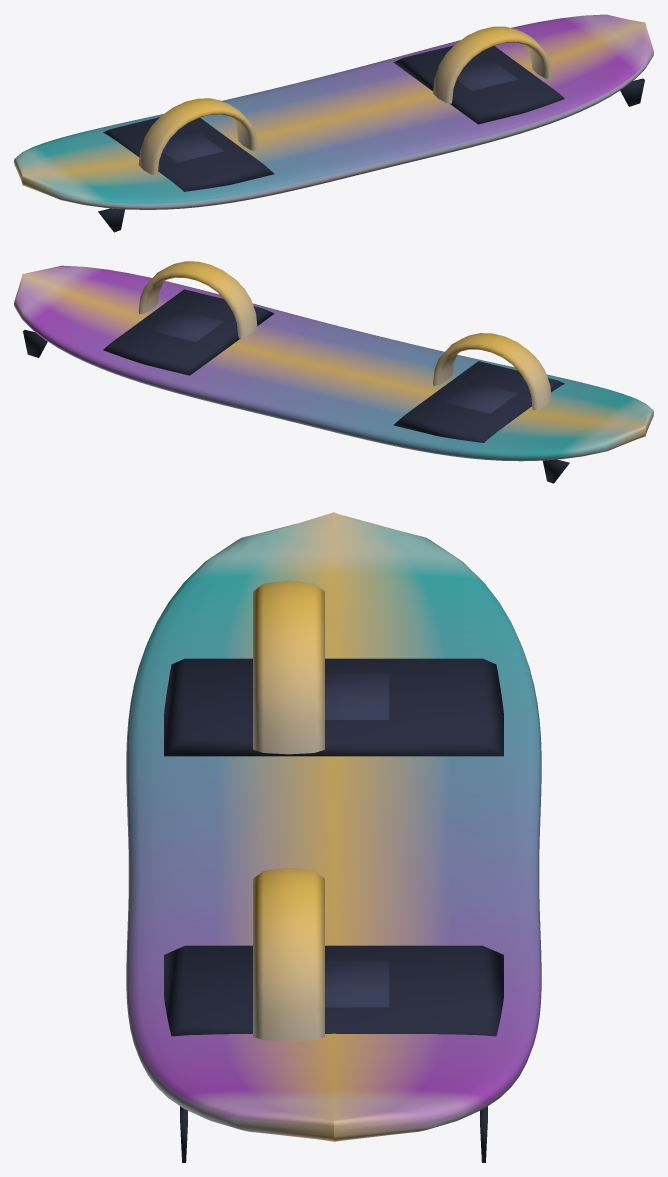
Rendered from board.glb.
3 views of the same model, one above another, from view 1: azimuth 30°, elevation 25°; view 2: azimuth 150°, elevation 25°; view 3: azimuth 270°, elevation 25° (orthographic). The views are drawn at different scales.
Visible parts, largest first — view 1: board; view 2: board; view 3: board.
Boxes of the visible parts, x1,y1,x2,y2 form: board: [14, 14, 653, 232]; board: [14, 261, 653, 483]; board: [126, 512, 541, 1162].
Bounding box in the file's own units: 1.44 × 0.1824 × 0.4157.
